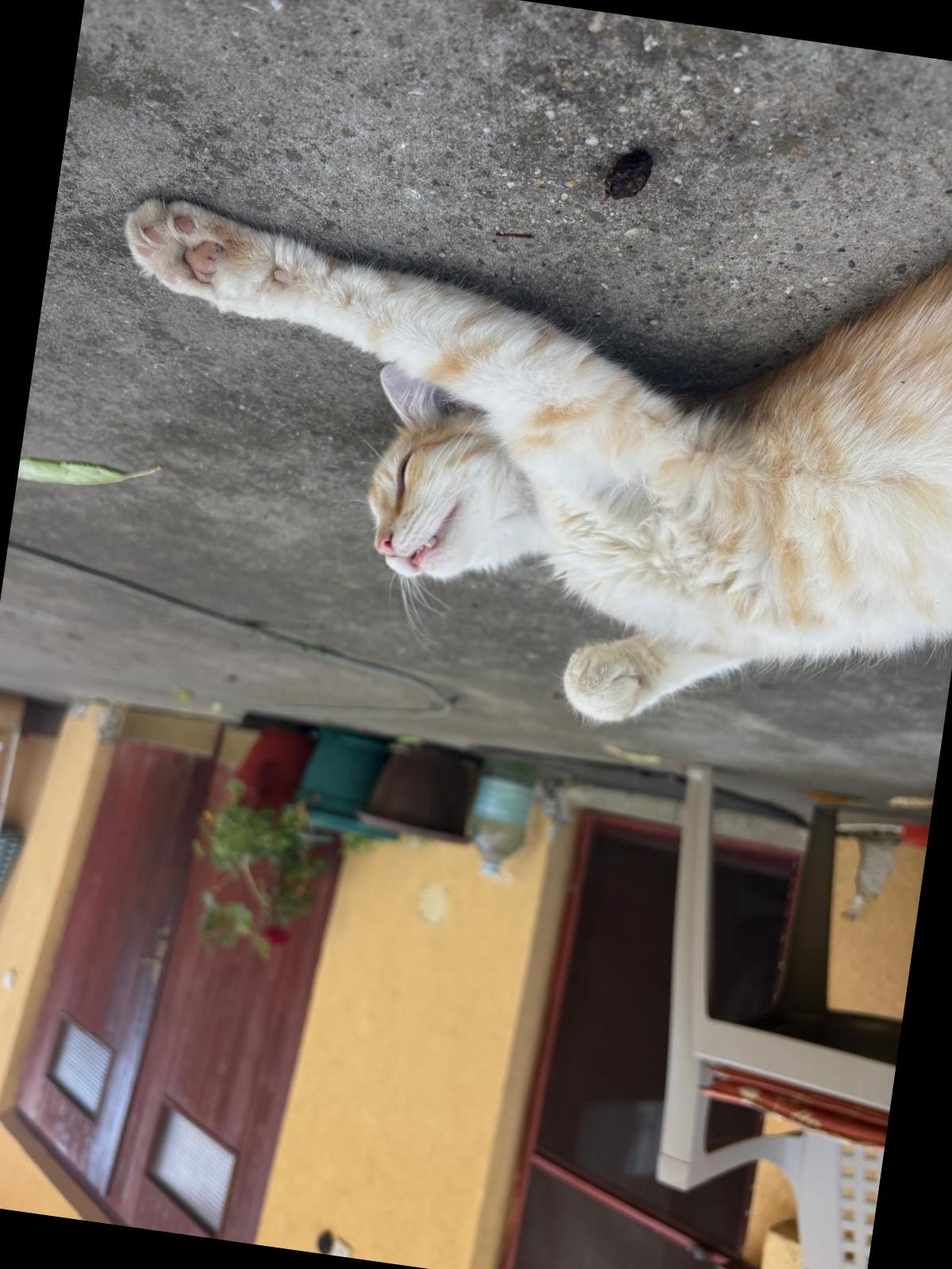macka: (60, 115, 952, 770)
